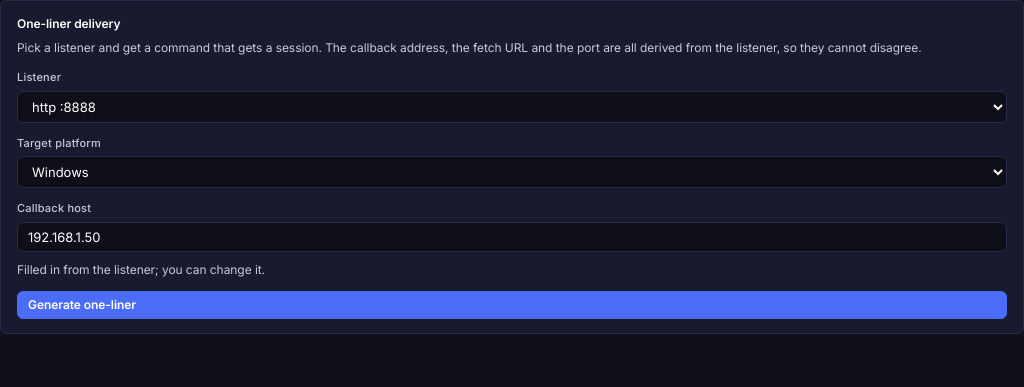
Test case: OneLinerPanel listener selection › explains a listener that stopped between the poll and the click
Click the button "Generate one-liner": (82, 304) [17,290,1007,319]
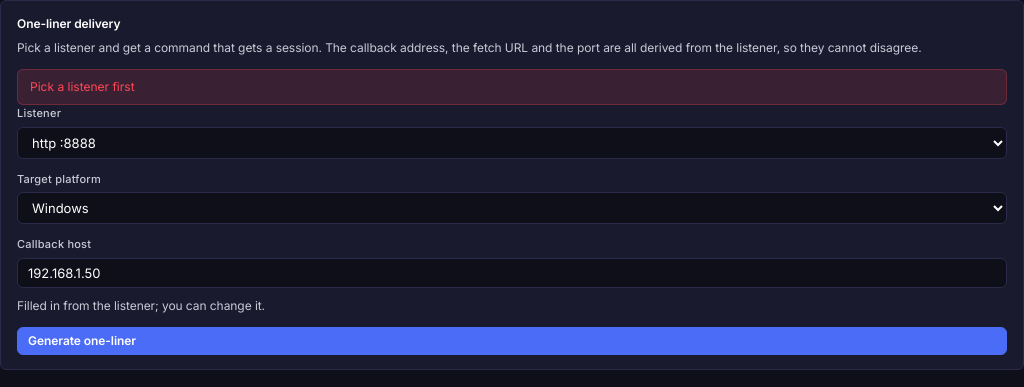
Now the text "Pick a listener first" is shown, box [17,69,1007,105]
